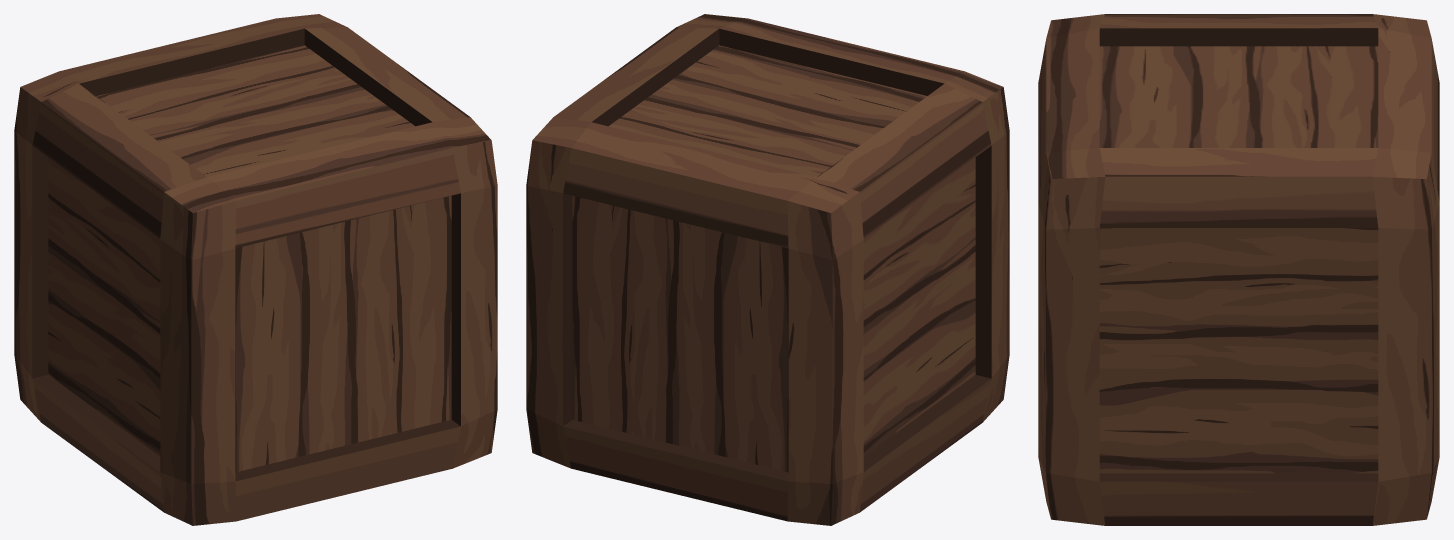
Rendered from crate_01.fbx.
3 views of the same model, side by side, from view 1: azimuth 30°, elevation 25°; view 2: azimuth 150°, elevation 25°; view 3: azimuth 270°, elevation 25° (orthographic). The views are drawn at different scales.
Visible parts, largest first — view 1: Cube; view 2: Cube; view 3: Cube.
Boxes of the visible parts, box(x1,y1,x2,y2) form: Cube: box(14, 14, 497, 525); Cube: box(526, 14, 1009, 525); Cube: box(1038, 14, 1439, 525).
Size of the model in its own units: 2 by 2 by 2.
